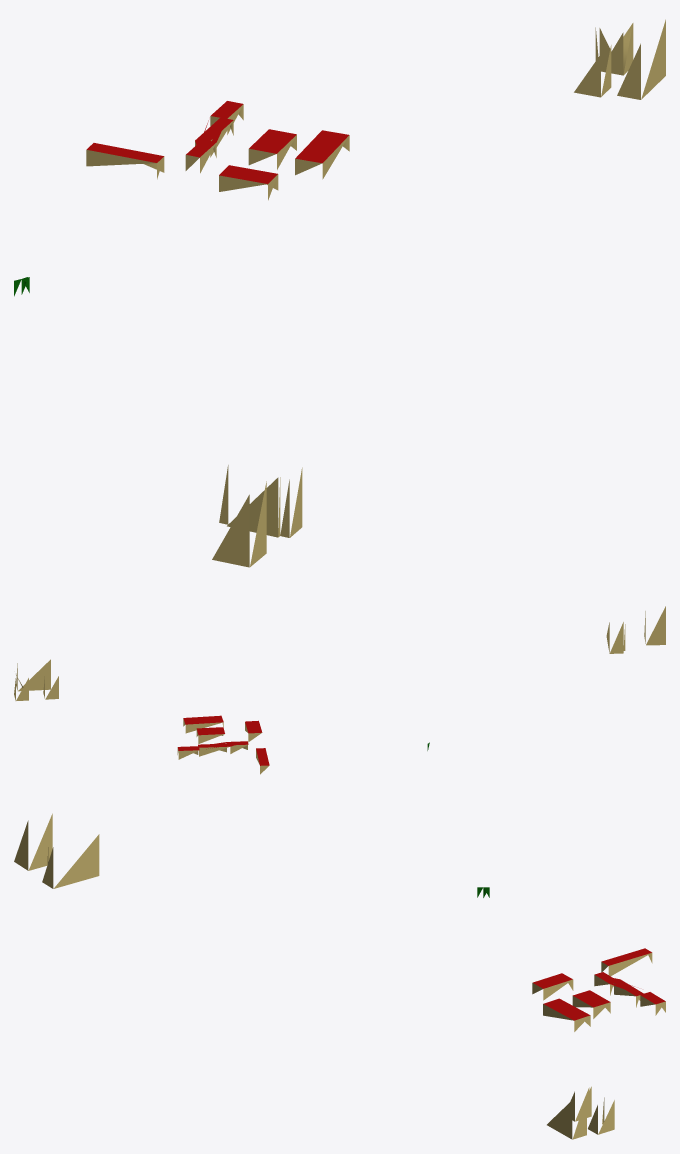
3 renders of one model, top to bottom at view 1: azimuth 30°, elevation 25°; view 2: azimuth 150°, elevation 25°; view 3: azimuth 270°, elevation 25°, orthographic. The views are drawn at different scales.
Bounding box in the file's own units: 652 × 55 × 630.
